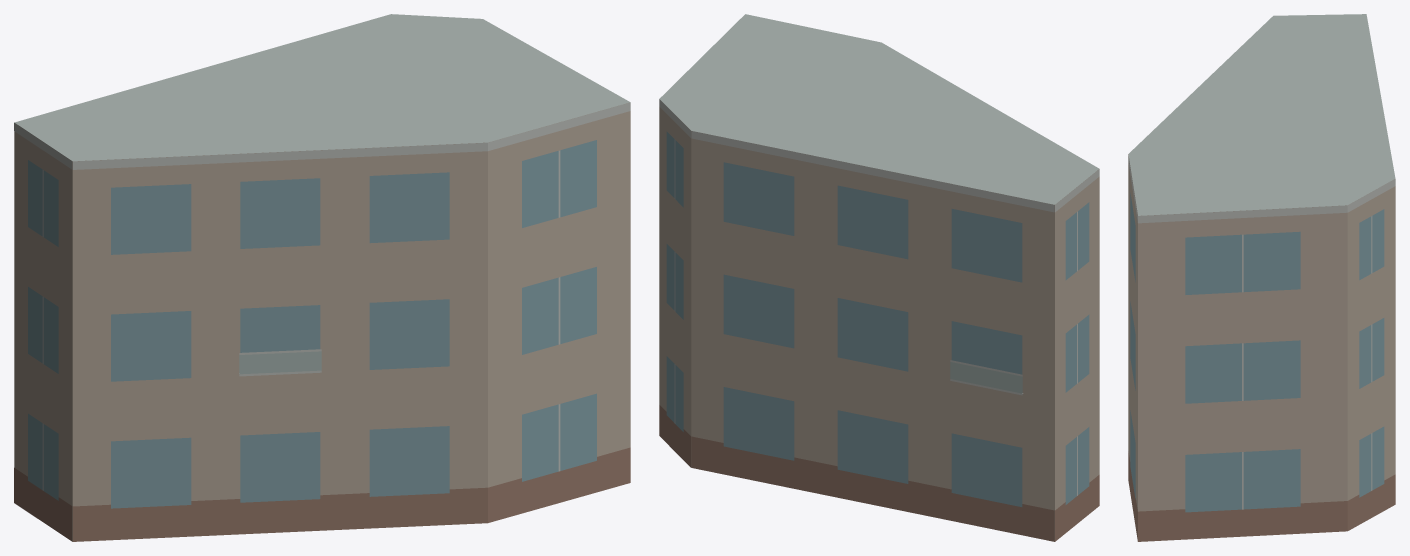
Rendered from survey-upis-32503696.glb.
3 views of the same model, side by side, from view 1: azimuth 30°, elevation 25°; view 2: azimuth 150°, elevation 25°; view 3: azimuth 270°, elevation 25° (orthographic). The views are drawn at different scales.
Visible parts, largest first — view 1: survey-upis-32503696.tmp; view 2: survey-upis-32503696.tmp; view 3: survey-upis-32503696.tmp.
Boxes of the visible parts, bbox=[...] form: survey-upis-32503696.tmp: bbox=[14, 14, 630, 541]; survey-upis-32503696.tmp: bbox=[659, 14, 1099, 541]; survey-upis-32503696.tmp: bbox=[1128, 14, 1395, 541].
Bounding box in the file's own units: 14.22 × 10.7 × 7.96.
